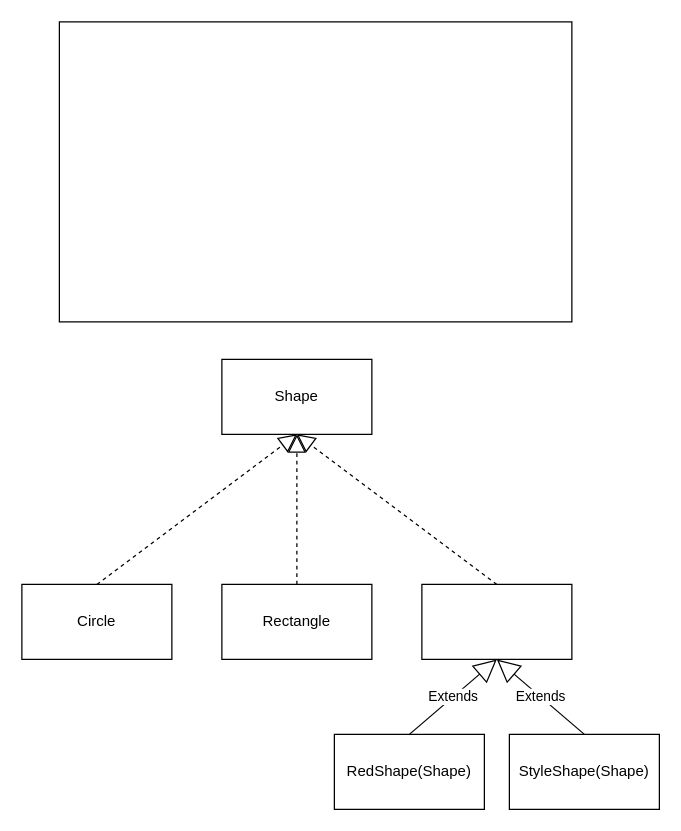
Image size: 681x831. Some labels were removed from this diagram. Each missing label, with the centre of its shape:
"ShapeDecorator" belongs at (x=496, y=621).
"使用装饰模式是因为比较多的组合，（红圆、红方、Style圆、Style方）" belongs at (x=315, y=171).
